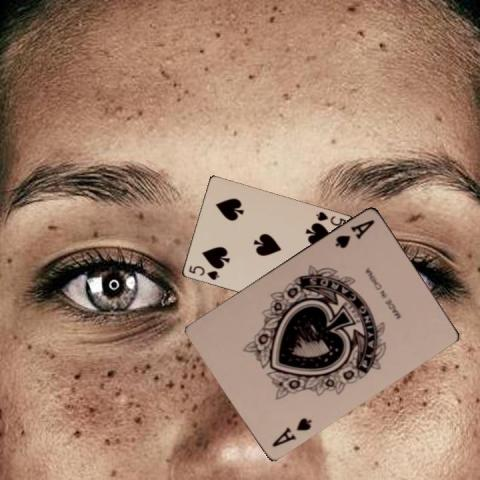5s: (185, 263, 221, 281), (313, 209, 347, 228)
As: (270, 414, 314, 448), (332, 216, 377, 249)
